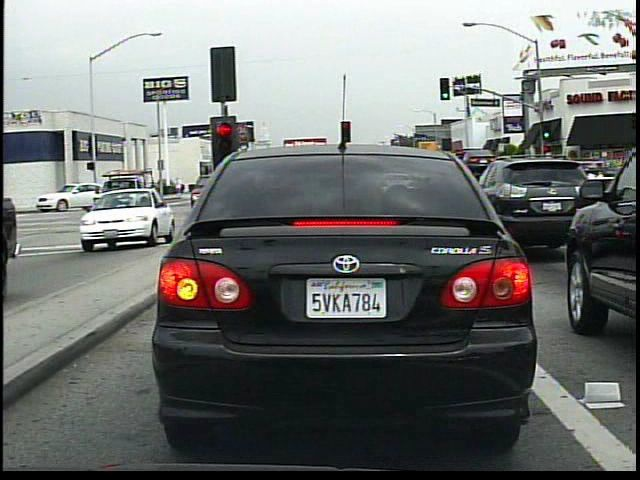person: (176, 175, 186, 194)
